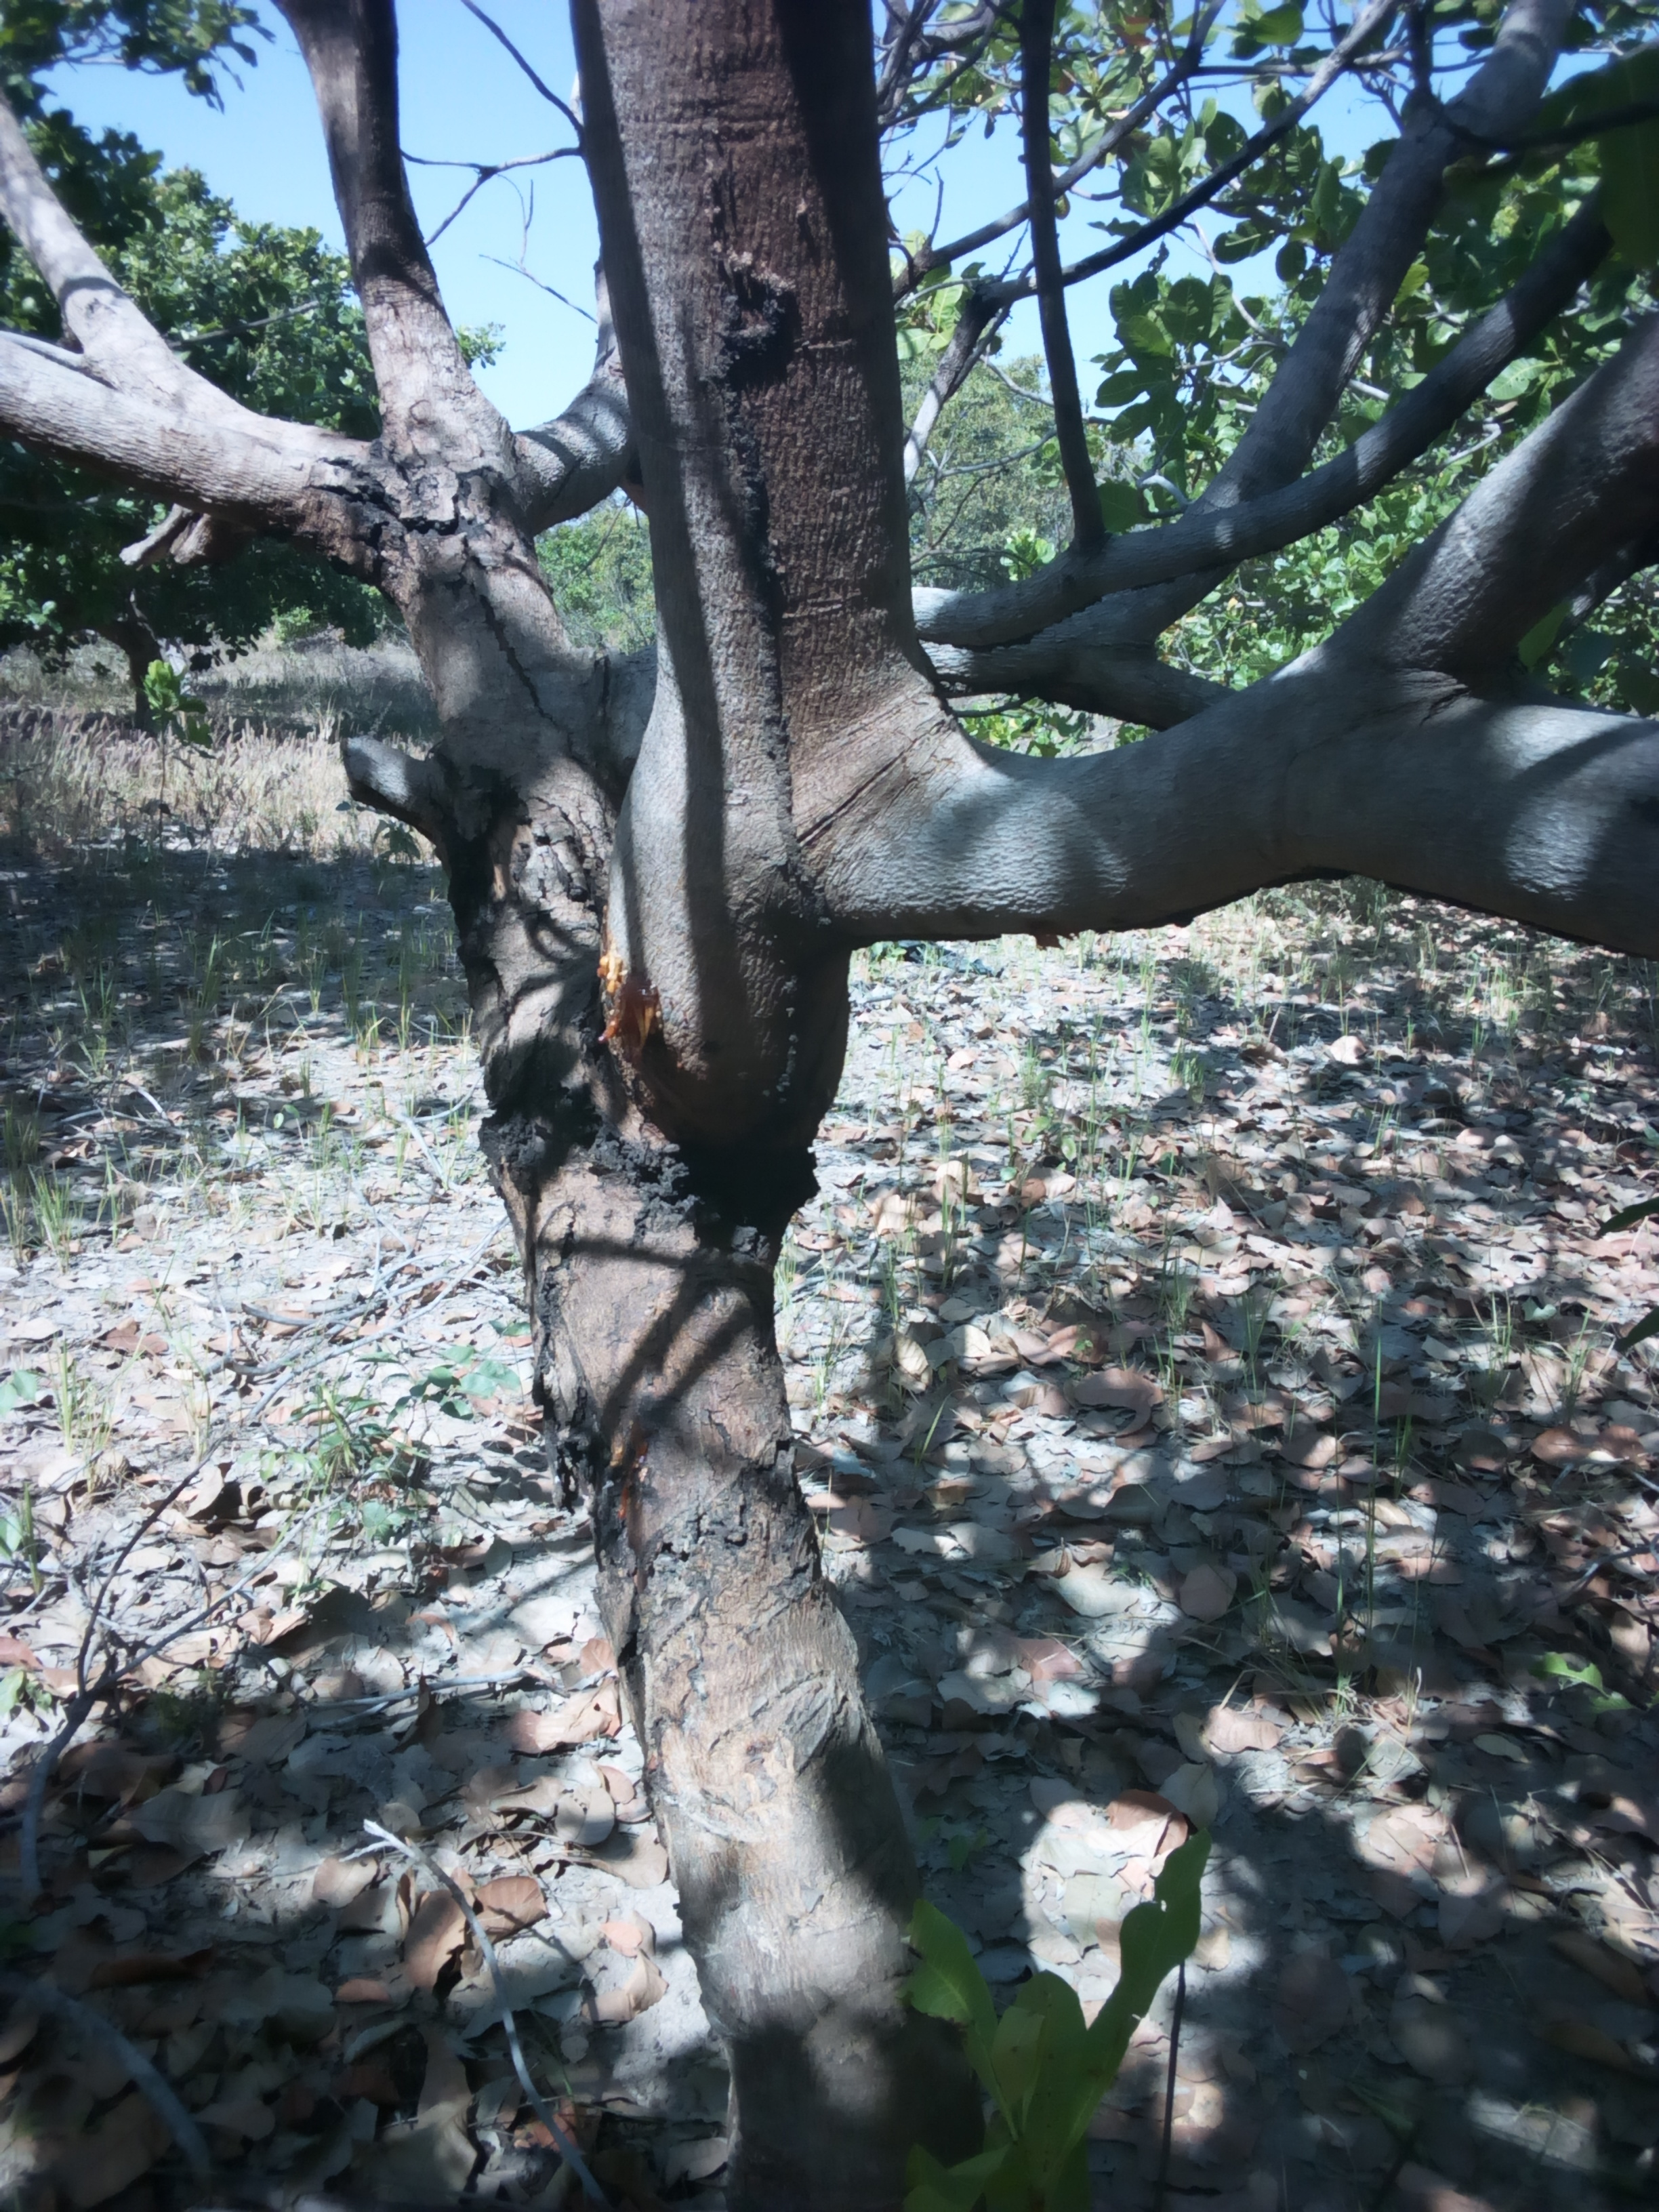Gommose: (321, 421, 535, 583), (565, 1120, 850, 1217)
